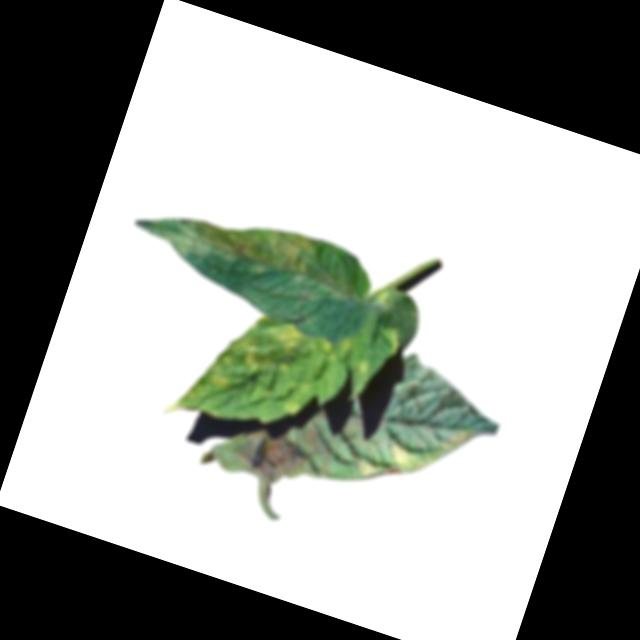Leaf_Mold: (128, 182, 323, 295), (352, 400, 475, 509), (271, 320, 314, 362), (235, 341, 281, 380), (203, 363, 234, 391)
